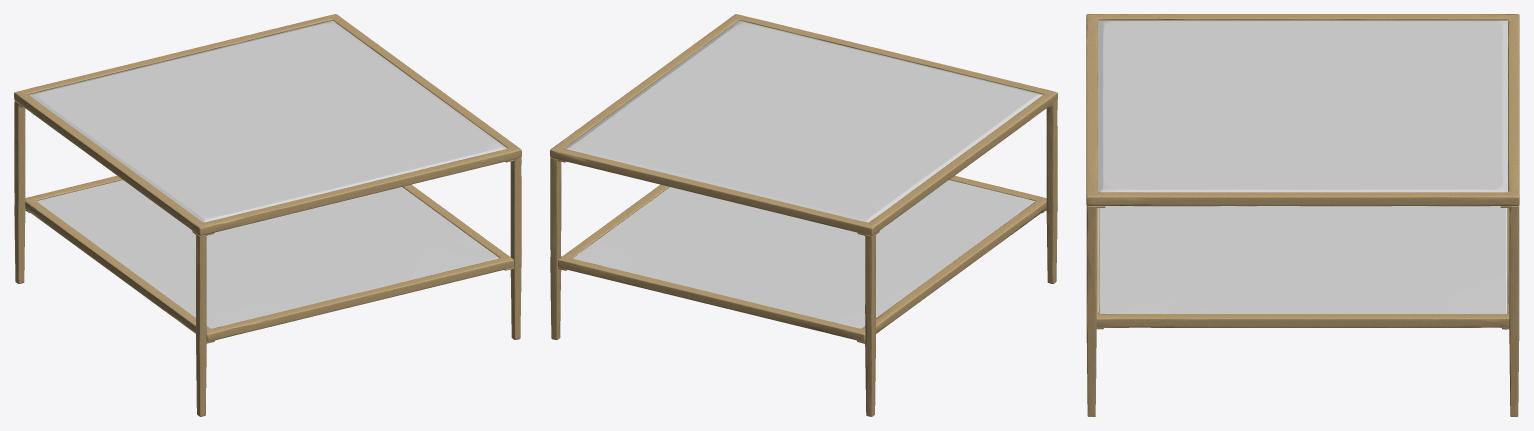
File: nash.glb
3 views of the same model, side by side, from view 1: azimuth 30°, elevation 25°; view 2: azimuth 150°, elevation 25°; view 3: azimuth 270°, elevation 25° (orthographic). The views are drawn at different scales.
Parts seen in each view (by area): view 1: clear_obj_0_100.0_v6, not_clear_obj_1_v6; view 2: clear_obj_0_100.0_v6, not_clear_obj_1_v6; view 3: clear_obj_0_100.0_v6, not_clear_obj_1_v6.
Part boxes in pixels (left/top/right/bottom): clear_obj_0_100.0_v6: left=29, top=20, right=507, bottom=328; not_clear_obj_1_v6: left=14, top=14, right=521, bottom=416; clear_obj_0_100.0_v6: left=564, top=20, right=1042, bottom=328; not_clear_obj_1_v6: left=550, top=14, right=1057, bottom=416; clear_obj_0_100.0_v6: left=1097, top=20, right=1507, bottom=313; not_clear_obj_1_v6: left=1086, top=14, right=1519, bottom=416.
Size of what is drawn, in the model's own units: 0.813 by 0.4567 by 0.8125.
3 materials, 2 textured.
